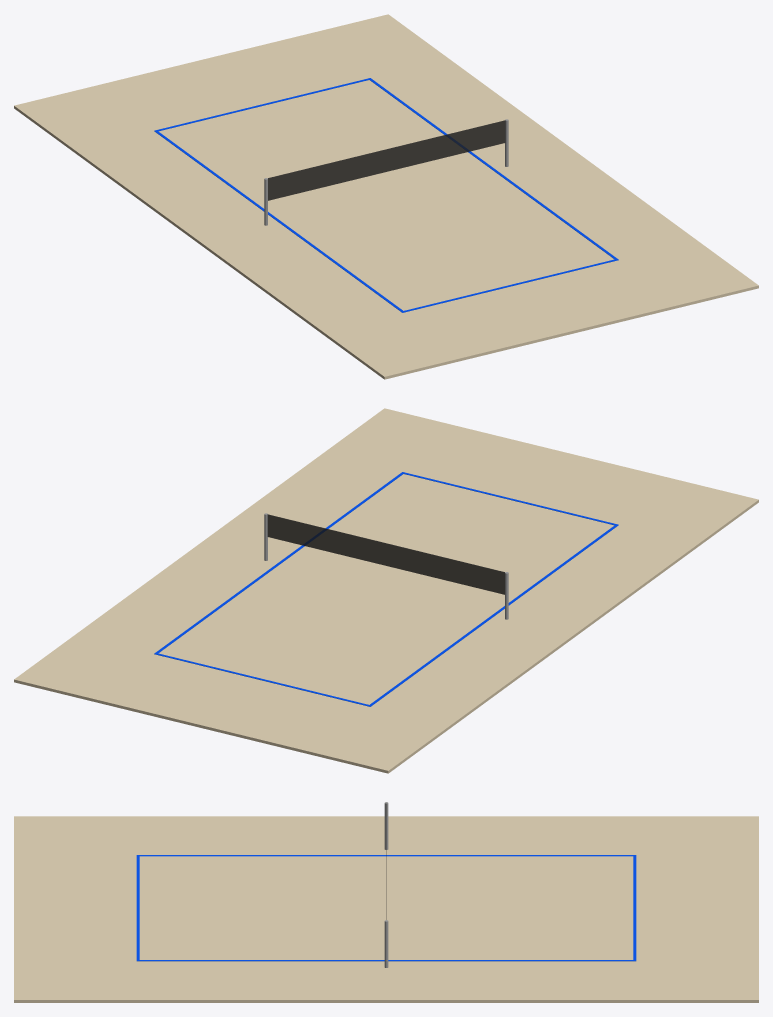
The model's file is quadra_beach_tennis.glb.
The picture shows the model from 3 angles, top to bottom: view 1: azimuth 30°, elevation 25°; view 2: azimuth 150°, elevation 25°; view 3: azimuth 270°, elevation 25°; orthographic projection.
Bounding box in the file's own units: 14 × 1.75 × 24.
